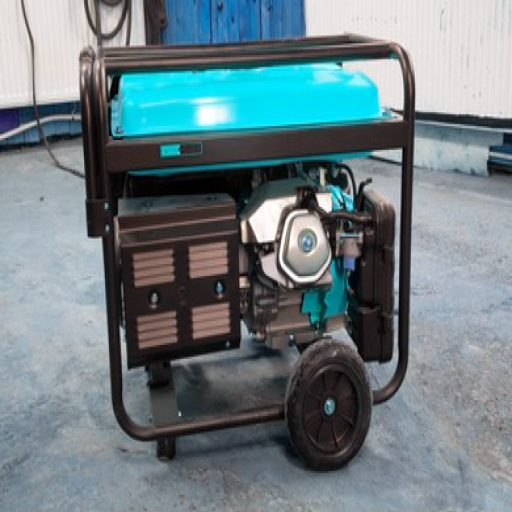portable_generator: (80, 34, 416, 451)
